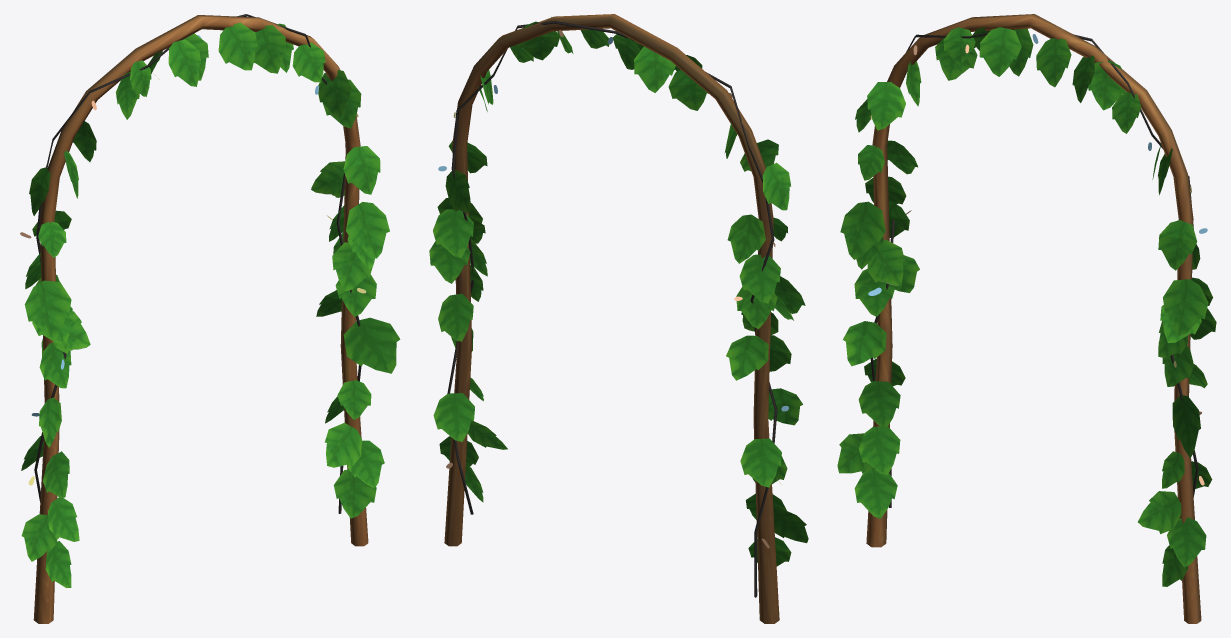
File: pergola.fbx
3 views of the same model, side by side, from view 1: azimuth 30°, elevation 25°; view 2: azimuth 150°, elevation 25°; view 3: azimuth 330°, elevation 25° (orthographic).
Visible parts, largest first — view 1: pergola; view 2: pergola; view 3: pergola.
Boxes of the visible parts, x1,y1,x2,y2 form: pergola: [20, 14, 400, 623]; pergola: [429, 14, 808, 623]; pergola: [837, 14, 1216, 623].
Size of the model in its own units: 492 by 719 by 83.89.
